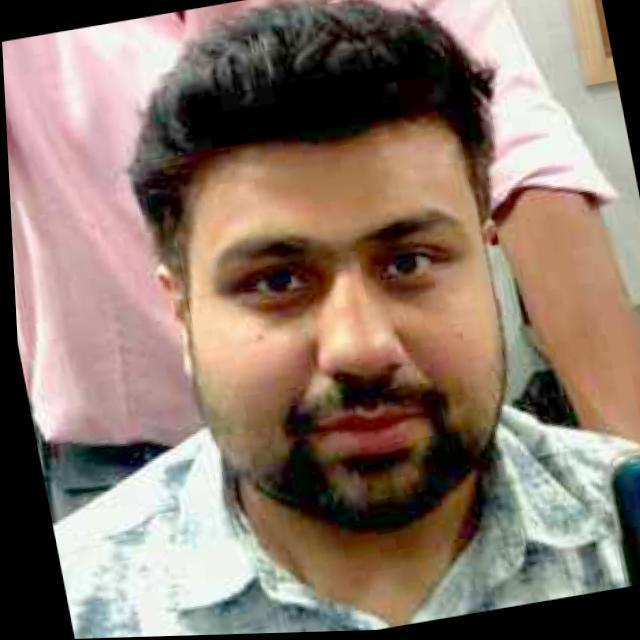puffy_eyes: (234, 288, 315, 321), (376, 275, 443, 306)
